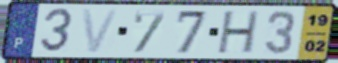3: (37, 6, 74, 55), (263, 9, 299, 57)
7: (131, 8, 168, 55), (174, 8, 208, 55)
H: (215, 9, 262, 56)
V: (80, 8, 122, 55)
